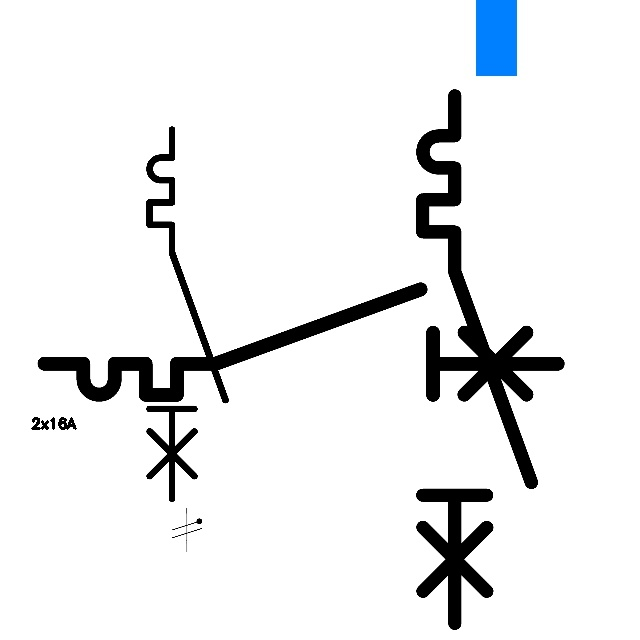interruptor_termomagnetico: (409, 82, 545, 636), (31, 276, 571, 408), (140, 120, 235, 508)
